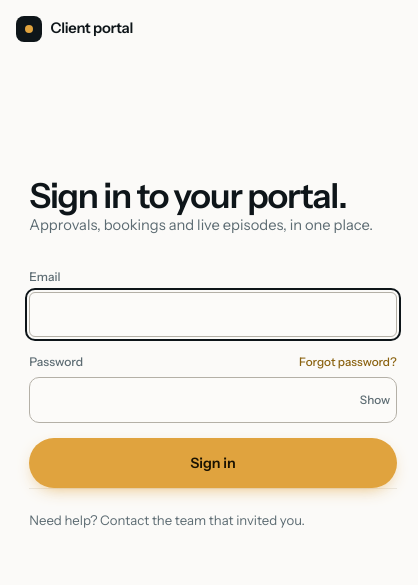
Test case: PortalLogin refusals › says the attempt limit was reached on the rate-limit code
Type "taylor@example.com" into the field labelled "Email".
click(213, 315); type("taylor@example.com")  # box [29,292,397,337]
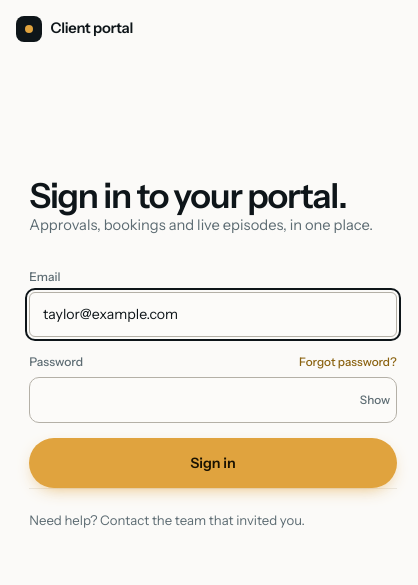
Type "wrong-password" into the password field labelled "Password".
click(213, 400); type("wrong-password")  # box [29,377,397,423]
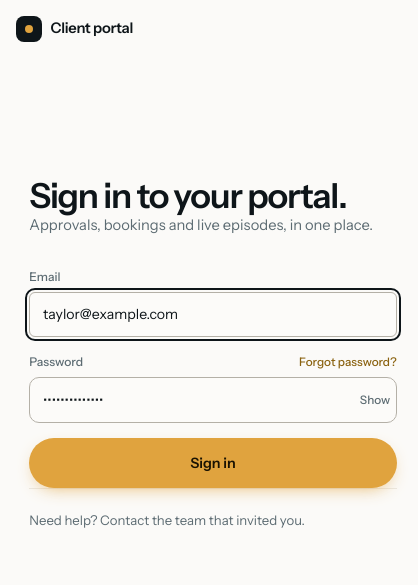
Click the button "Sign in".
click(213, 463)  # box [29,438,397,488]
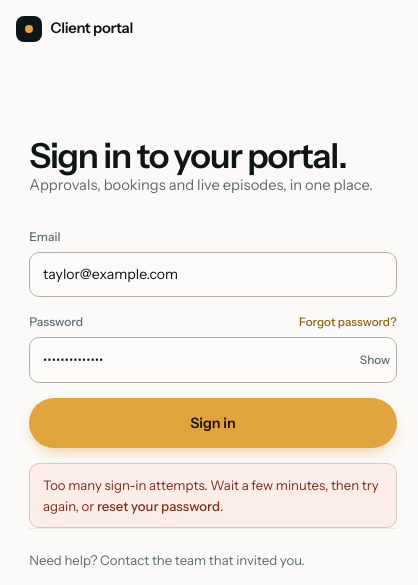
Expected: the message does not show "do not match", [29,463,397,528]
Expected: the message shows "Too many sign-in attempts. Wait a few minutes, then try again", [43,477,379,514]
